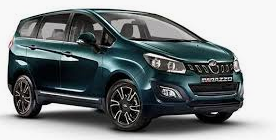car: (6, 7, 247, 134)
